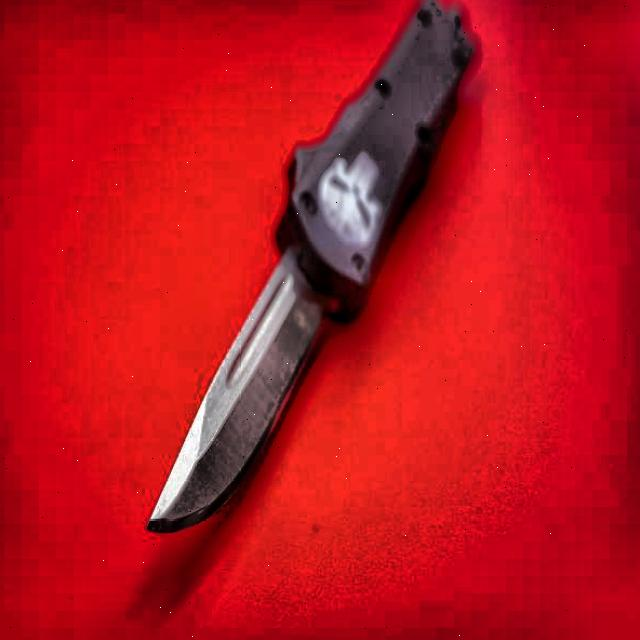knife: (147, 0, 479, 539)
